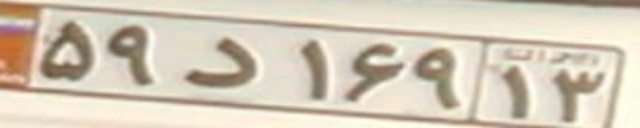1: (295, 37, 332, 100), (497, 62, 530, 118)
3: (551, 67, 606, 123)
5: (41, 17, 86, 80)
6: (343, 39, 406, 104)
9: (412, 40, 459, 110), (104, 20, 152, 87)
dal: (183, 32, 254, 90)
